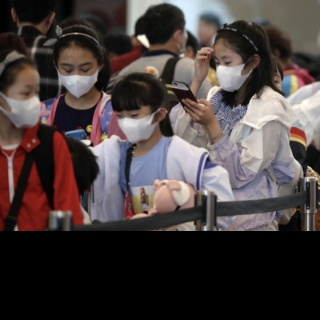with_mask: (114, 103, 159, 146), (56, 58, 100, 100), (4, 81, 40, 130), (213, 52, 254, 93)
